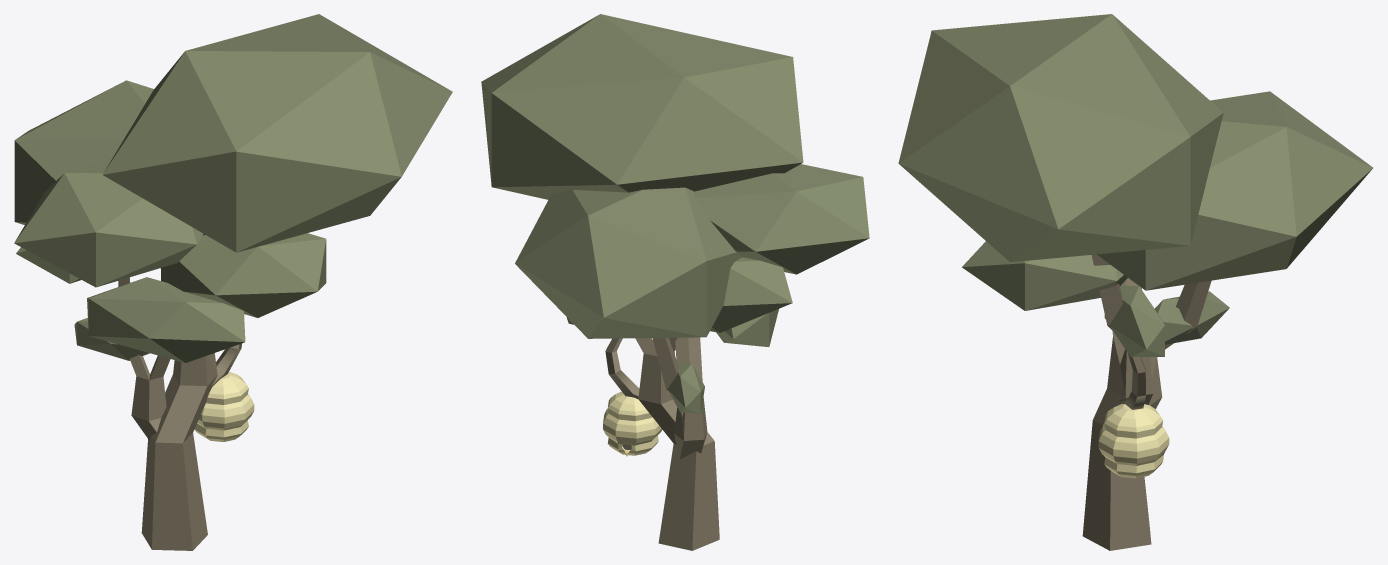
Rendered from QueenieDwelling.fbx.
The picture shows the model from 3 angles, left to right: view 1: azimuth 30°, elevation 25°; view 2: azimuth 150°, elevation 25°; view 3: azimuth 270°, elevation 25°; orthographic projection. The views are drawn at different scales.
Parts seen in each view (by area): view 1: Queeny_Dwelling; view 2: Queeny_Dwelling; view 3: Queeny_Dwelling.
Boxes of the visible parts, <box> form: Queeny_Dwelling: <box>14,14,452,550</box>; Queeny_Dwelling: <box>481,14,869,550</box>; Queeny_Dwelling: <box>898,14,1373,550</box>.
Size of the model in its own units: 29.9 by 32.64 by 26.74.
